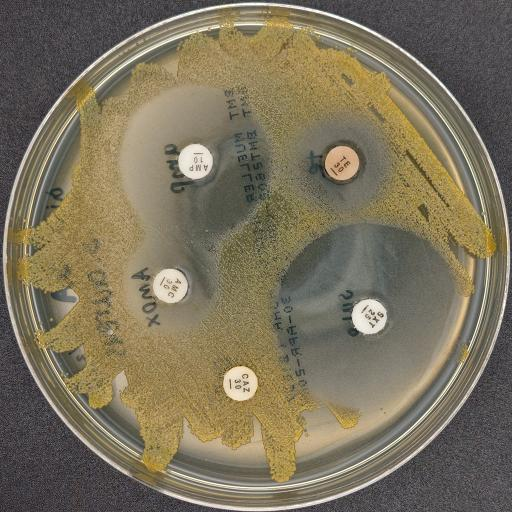disc: (322, 143, 363, 185), (176, 142, 216, 182), (152, 266, 189, 304), (352, 298, 388, 336), (222, 366, 258, 402)
